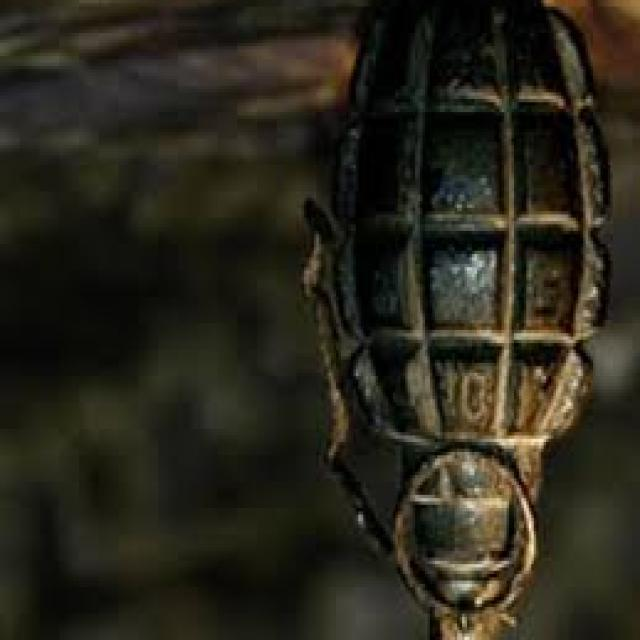grenade: (300, 1, 618, 640)
